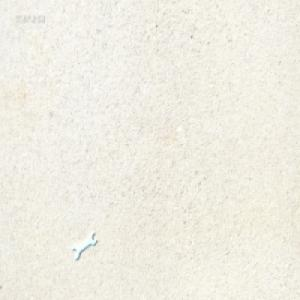Wrench: (74, 233, 99, 261)
